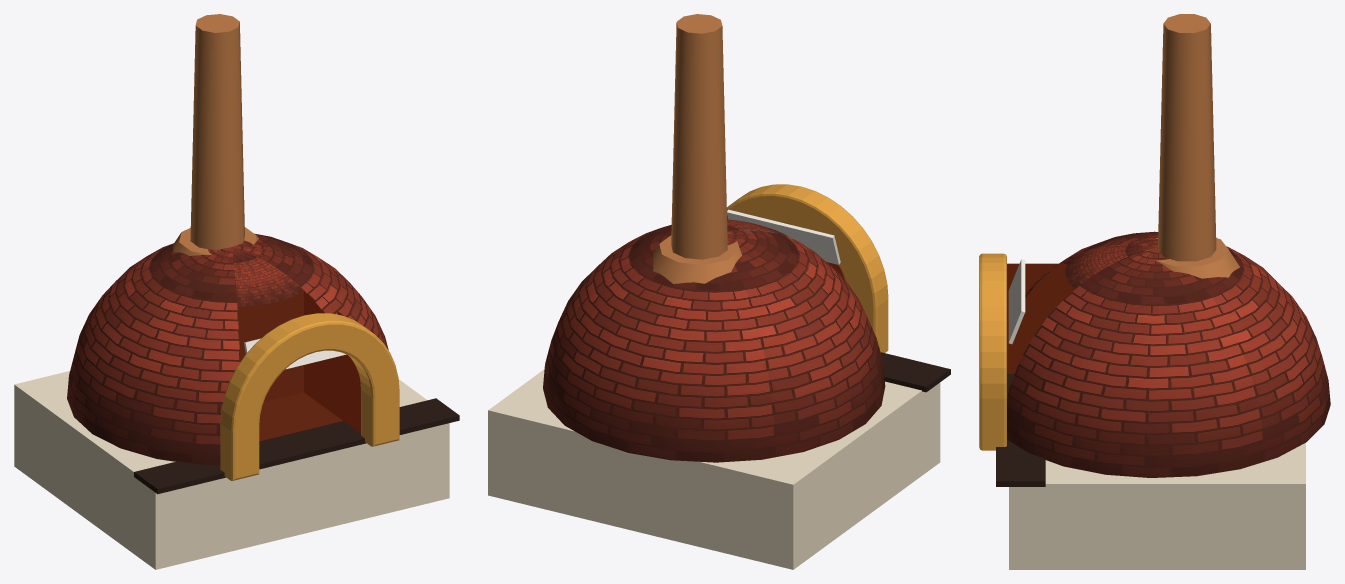
The model's file is oven-lod1.glb.
3 views of the same model, side by side, from view 1: azimuth 30°, elevation 25°; view 2: azimuth 150°, elevation 25°; view 3: azimuth 270°, elevation 25° (orthographic). The views are drawn at different scales.
Visible parts, largest first — view 1: Oven_Plinth, Oven_Dome, Oven_Arch, Oven_Flue, Oven_Cavity, Oven_Ledge, Oven_Crown, Oven_Hood, Oven_PlaqueBoard; view 2: Oven_Dome, Oven_Plinth, Oven_Flue, Oven_Arch, Oven_Hood, Oven_PlaqueBoard, Oven_Ledge; view 3: Oven_Dome, Oven_Plinth, Oven_Flue, Oven_Arch, Oven_Cavity, Oven_Ledge, Oven_Crown, Oven_Hood, Oven_PlaqueBoard.
Boxes of the visible parts, x1=… form: Oven_Plinth: x1=14, y1=371, x2=449, y2=569; Oven_Dome: x1=67, y1=233, x2=388, y2=464; Oven_Arch: x1=220, y1=313, x2=399, y2=480; Oven_Flue: x1=190, y1=14, x2=244, y2=249; Oven_Cavity: x1=237, y1=291, x2=360, y2=441; Oven_Ledge: x1=134, y1=398, x2=459, y2=494; Oven_Crown: x1=232, y1=247, x2=304, y2=307; Oven_Hood: x1=173, y1=227, x2=258, y2=269; Oven_PlaqueBoard: x1=244, y1=338, x2=345, y2=369; Oven_Dome: x1=543, y1=225, x2=885, y2=462; Oven_Plinth: x1=488, y1=369, x2=940, y2=569; Oven_Flue: x1=671, y1=14, x2=727, y2=259; Oven_Arch: x1=727, y1=184, x2=888, y2=352; Oven_Hood: x1=653, y1=235, x2=742, y2=283; Oven_PlaqueBoard: x1=727, y1=209, x2=840, y2=264; Oven_Ledge: x1=881, y1=352, x2=950, y2=392; Oven_Dome: x1=1007, y1=231, x2=1330, y2=477; Oven_Plinth: x1=1009, y1=443, x2=1305, y2=569; Oven_Flue: x1=1158, y1=14, x2=1216, y2=261; Oven_Arch: x1=979, y1=253, x2=1006, y2=450; Oven_Cavity: x1=1007, y1=263, x2=1111, y2=373; Oven_Ledge: x1=996, y1=374, x2=1045, y2=486; Oven_Crown: x1=1065, y1=244, x2=1156, y2=288; Oven_Hood: x1=1144, y1=238, x2=1239, y2=278; Oven_PlaqueBoard: x1=1008, y1=259, x2=1025, y2=344.
Size of what is drawn, in the model's own units: 3.7 by 5.25 by 3.55.
Materials: 9 (1 with a texture image).
